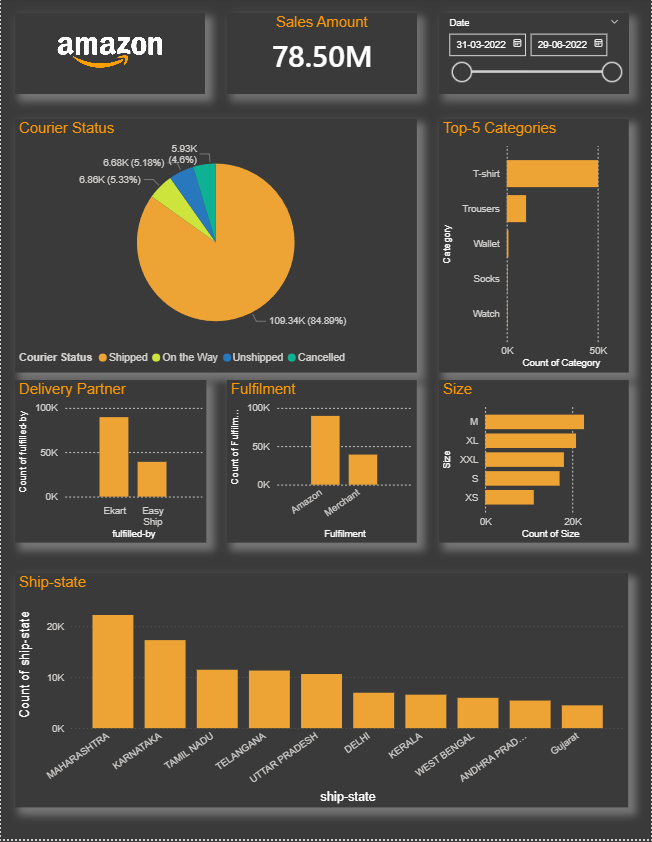

The dashboard page shown, as its layout file describes it:
{"tool":"powerbi","page":{"name":"Page 1","canvas":[816,1056],"ordinal":0},"visuals":[{"type":"image","box":[17.9,20,237.9,101.4],"z":0},{"type":"cardVisual","title":"Sales Amount","fields":{"Data":["Sum(Amazon Sale Report.Amount)"]},"box":[283.6,20,237.9,101.4],"z":1000},{"type":"slicer","title":"Sales Amount","fields":{"Values":["Amazon Sale Report.Date"]},"box":[549.3,20,237.9,101.4],"z":2000},{"type":"barChart","title":"Top-5 Categories","fields":{"Category":["Amazon Sale Report.Category"],"Y":["CountNonNull(Amazon Sale Report.Category)"]},"box":[549.3,152.9,237.9,317.9],"z":3000},{"type":"pieChart","title":"Courier Status","fields":{"Category":["Amazon Sale Report.Courier Status"],"Y":["CountNonNull(Amazon Sale Report.Courier Status)"]},"box":[17.9,152.9,503.6,317.9],"z":4000},{"type":"columnChart","title":"Delivery Partner","fields":{"Category":["Amazon Sale Report.fulfilled-by"],"Y":["CountNonNull(Amazon Sale Report.fulfilled-by)"]},"box":[17.9,480.7,240,204.3],"z":5000},{"type":"columnChart","title":"Fulfilment","fields":{"Category":["Amazon Sale Report.Fulfilment"],"Y":["CountNonNull(Amazon Sale Report.Fulfilment)"]},"box":[283.6,480.7,237.9,204.3],"z":6000},{"type":"clusteredBarChart","title":"Size","fields":{"Category":["Amazon Sale Report.Size"],"Y":["CountNonNull(Amazon Sale Report.Size)"]},"box":[549.3,480.7,237.9,204.3],"z":7000},{"type":"clusteredColumnChart","title":"Ship-state","fields":{"Category":["Amazon Sale Report.ship-state"],"Y":["CountNonNull(Amazon Sale Report.ship-state)"]},"box":[17.9,722.9,769.3,293.6],"z":8000}]}

Visuals, with their boxes in screenshot pixels (x1, y1, x2, y2), scaled from the page's 816x1056 canvas onto the 652x842 screenshot:
image: bbox=[14, 16, 204, 97]
"Sales Amount" cardVisual: bbox=[227, 16, 417, 97]
"Sales Amount" slicer: bbox=[439, 16, 629, 97]
"Top-5 Categories" barChart: bbox=[439, 122, 629, 375]
"Courier Status" pieChart: bbox=[14, 122, 417, 375]
"Delivery Partner" columnChart: bbox=[14, 383, 206, 546]
"Fulfilment" columnChart: bbox=[227, 383, 417, 546]
"Size" clusteredBarChart: bbox=[439, 383, 629, 546]
"Ship-state" clusteredColumnChart: bbox=[14, 576, 629, 811]
